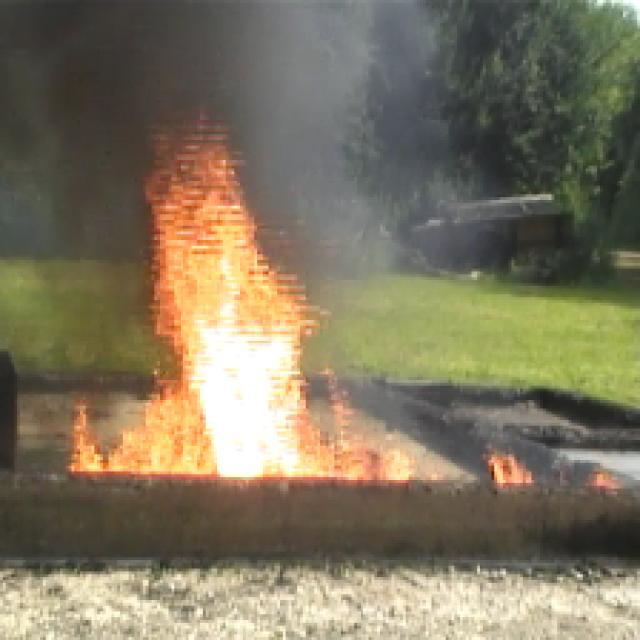Fire: (68, 117, 418, 487), (486, 451, 536, 485), (591, 468, 621, 491)
Smoke: (3, 0, 438, 120)
